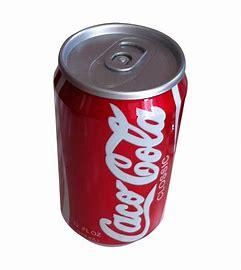metal: (54, 23, 188, 246)
